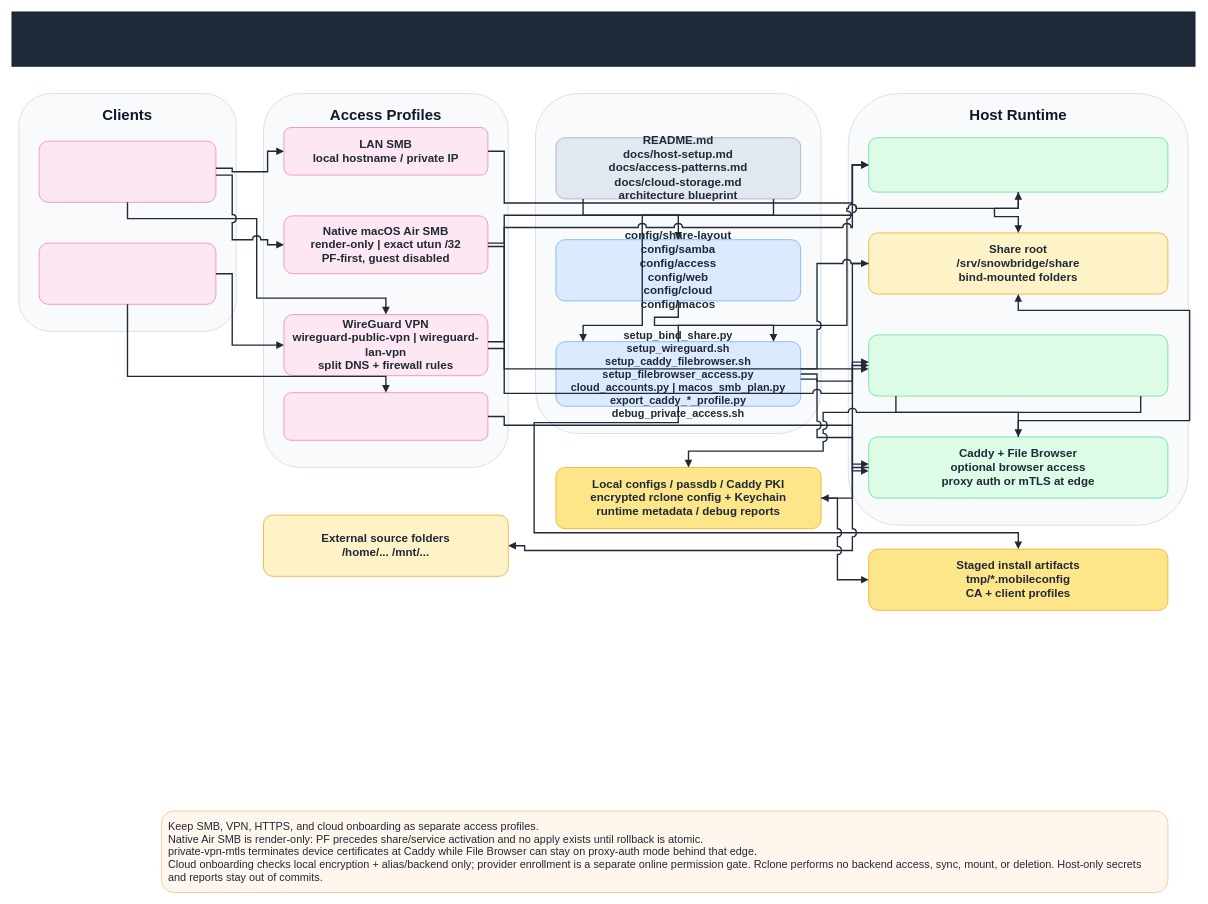
This 1208x904 diagram has some shape labels left out. Each missing label, with the box of its shape:
Browser clients iPhone Safari laptop browser: (38, 242, 216, 304)
HTTPS profiles private-vpn | private-vpn-mtls public | public-private-ip: (283, 392, 488, 440)
Linux Samba | Apple smbd dedicated or native SMB account: (868, 137, 1168, 192)
SMB clients iPhone Files app trusted devices: (38, 140, 216, 202)
snowbridge Repo: (535, 93, 821, 434)
snowbridge Repository Architecture: (11, 11, 1195, 66)
WireGuard + firewall Linux firewalld | macOS PF private routing and DNS: (868, 334, 1168, 396)
